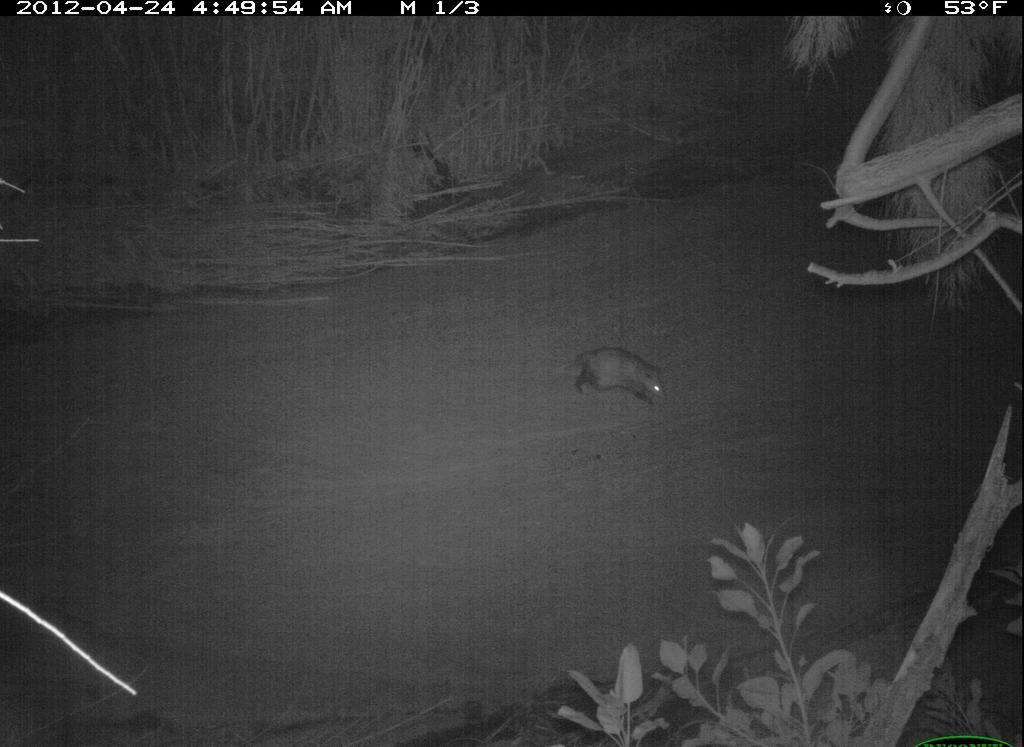opossum: (560, 344, 671, 417)
